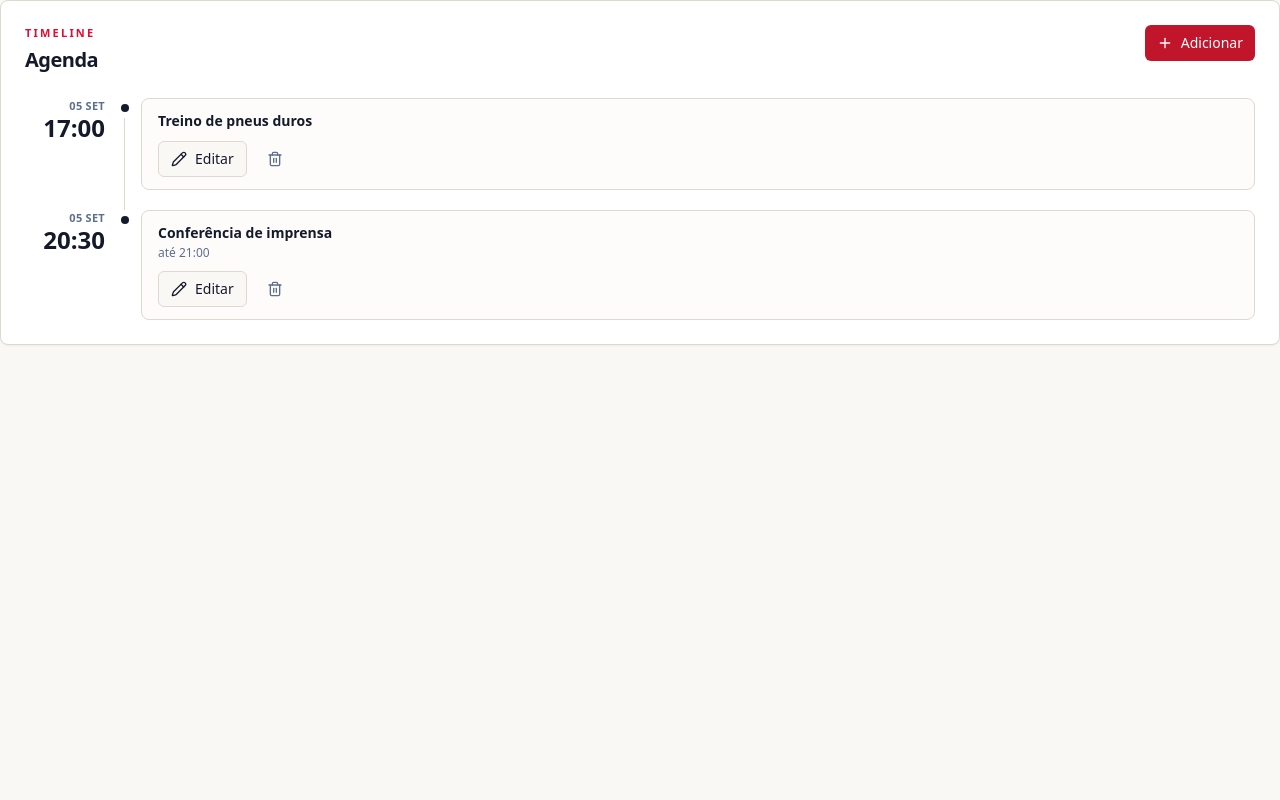
Test case: ScheduleCard › abre a edição inline
The image size is (1280, 800).
Click the button "Editar" below "Treino de pneus duros".
click(202, 158)  # box [158,140,247,176]
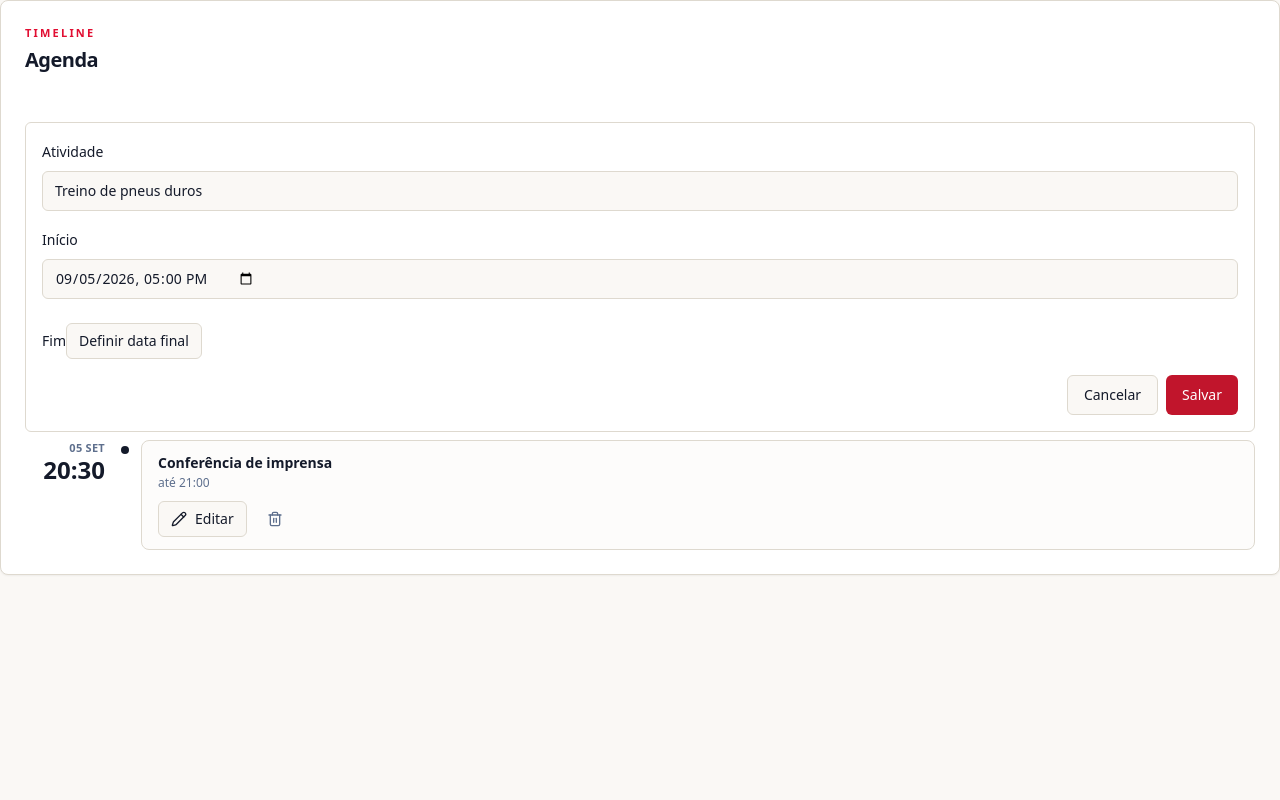
Expected: the field labelled "Atividade" is shown, [42,170,1238,210]
Expected: the button "Salvar" is shown, [1166,374,1238,414]
